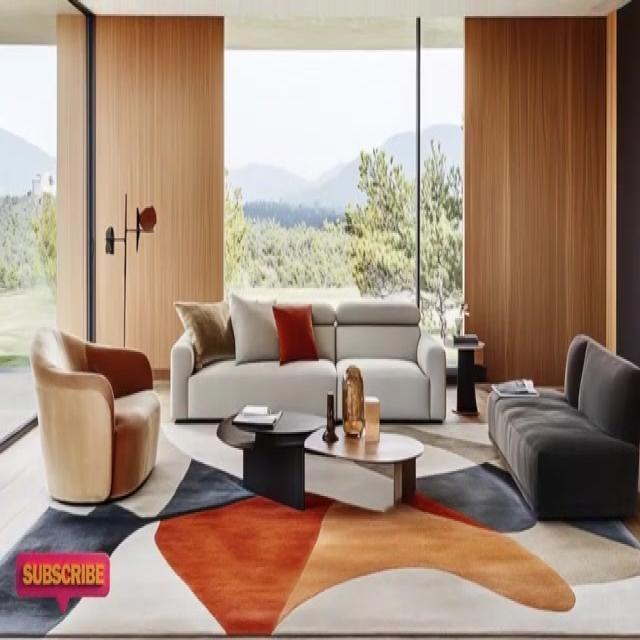obstacle: (169, 292, 446, 424), (487, 330, 640, 517), (213, 399, 422, 512), (29, 325, 160, 505)
